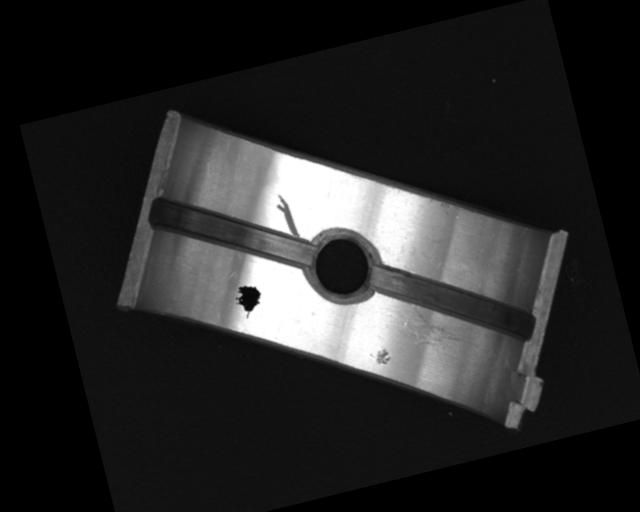blot: (231, 281, 267, 321)
bruise: (368, 346, 392, 369)
gap: (367, 232, 540, 373), (147, 167, 313, 298)
hole: (297, 222, 385, 309)
nick: (273, 191, 300, 240)
scratch: (400, 291, 480, 365)
